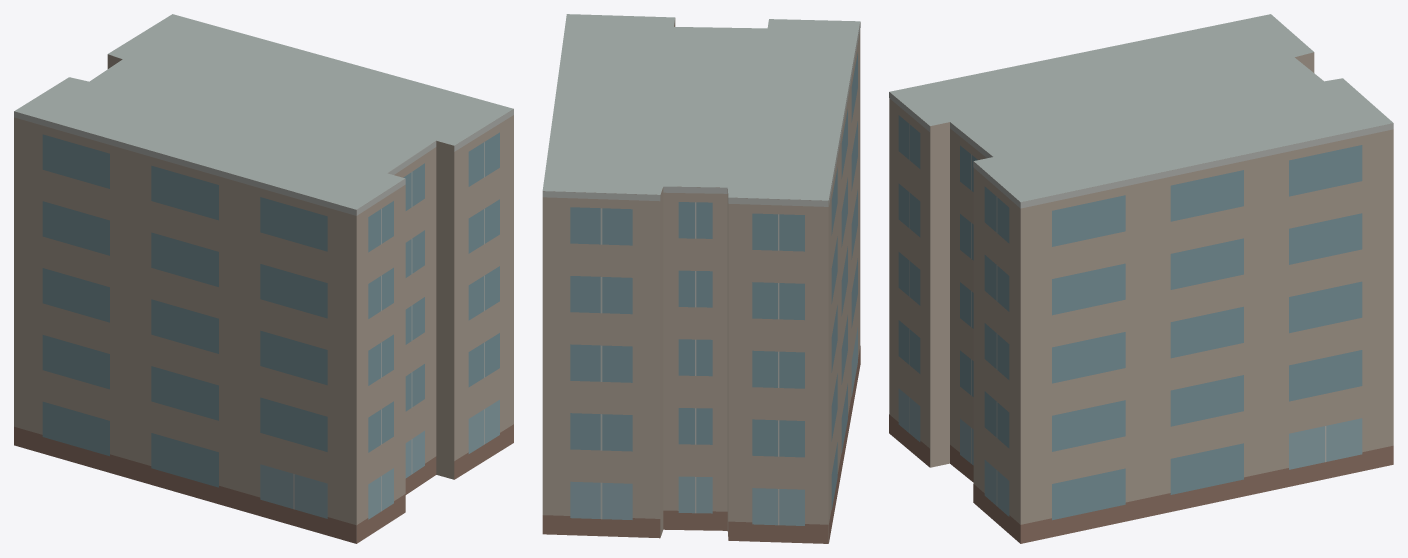
The model's file is survey-upis-32969371.glb.
3 views of the same model, side by side, from view 1: azimuth 30°, elevation 25°; view 2: azimuth 150°, elevation 25°; view 3: azimuth 270°, elevation 25° (orthographic). The views are drawn at different scales.
Parts seen in each view (by area): view 1: survey-upis-32969371.tmp; view 2: survey-upis-32969371.tmp; view 3: survey-upis-32969371.tmp.
Boxes of the visible parts, <box> form: survey-upis-32969371.tmp: <box>14,14,513,543</box>; survey-upis-32969371.tmp: <box>542,14,860,543</box>; survey-upis-32969371.tmp: <box>889,14,1393,543</box>.
Size of the model in its own units: 15.73 by 13.3 by 17.81.
